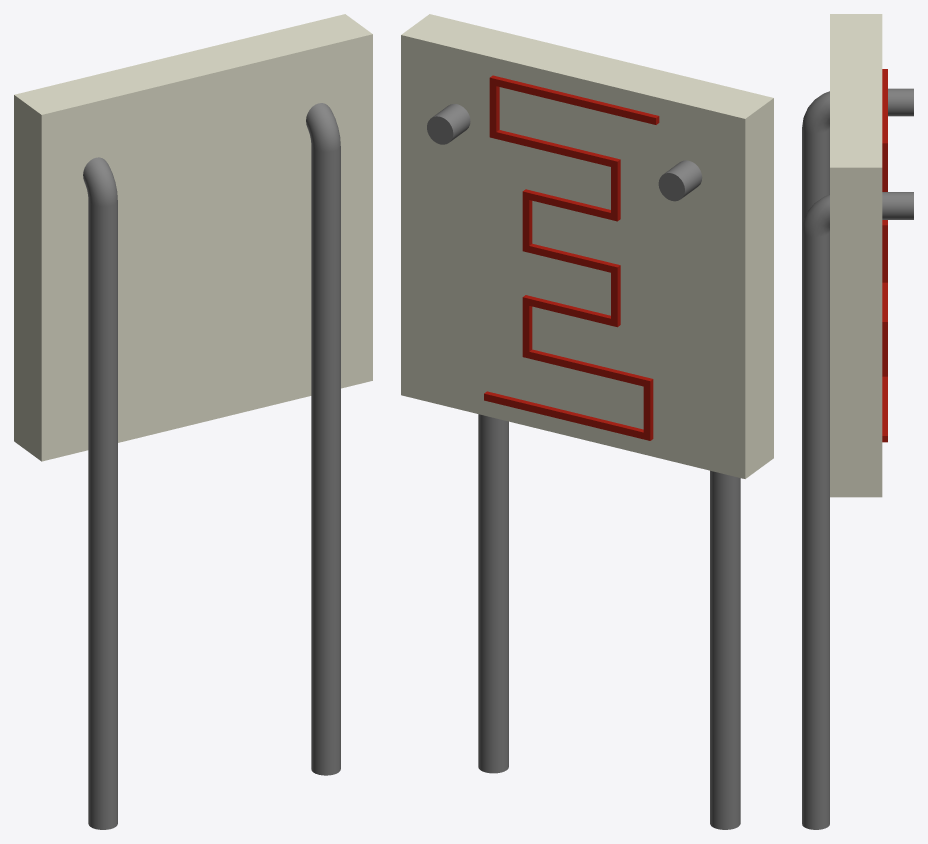
File: OptoDevice__R_LDR_5.2x5.2mm_P3.5mm_Horizontal.glb
The picture shows the model from 3 angles, left to right: view 1: azimuth 30°, elevation 25°; view 2: azimuth 150°, elevation 25°; view 3: azimuth 270°, elevation 25°; orthographic projection. The views are drawn at different scales.
Visible parts, largest first — view 1: R_LDR_5.2x5.2mm_P3.5mm_Horizontal; view 2: R_LDR_5.2x5.2mm_P3.5mm_Horizontal; view 3: R_LDR_5.2x5.2mm_P3.5mm_Horizontal.
Boxes of the visible parts, x1,y1,x2,y2 form: R_LDR_5.2x5.2mm_P3.5mm_Horizontal: [14, 14, 372, 829]; R_LDR_5.2x5.2mm_P3.5mm_Horizontal: [401, 14, 773, 829]; R_LDR_5.2x5.2mm_P3.5mm_Horizontal: [802, 14, 913, 829].
Size of the model in its own units: 0.0052 by 0.0107 by 0.0016.
